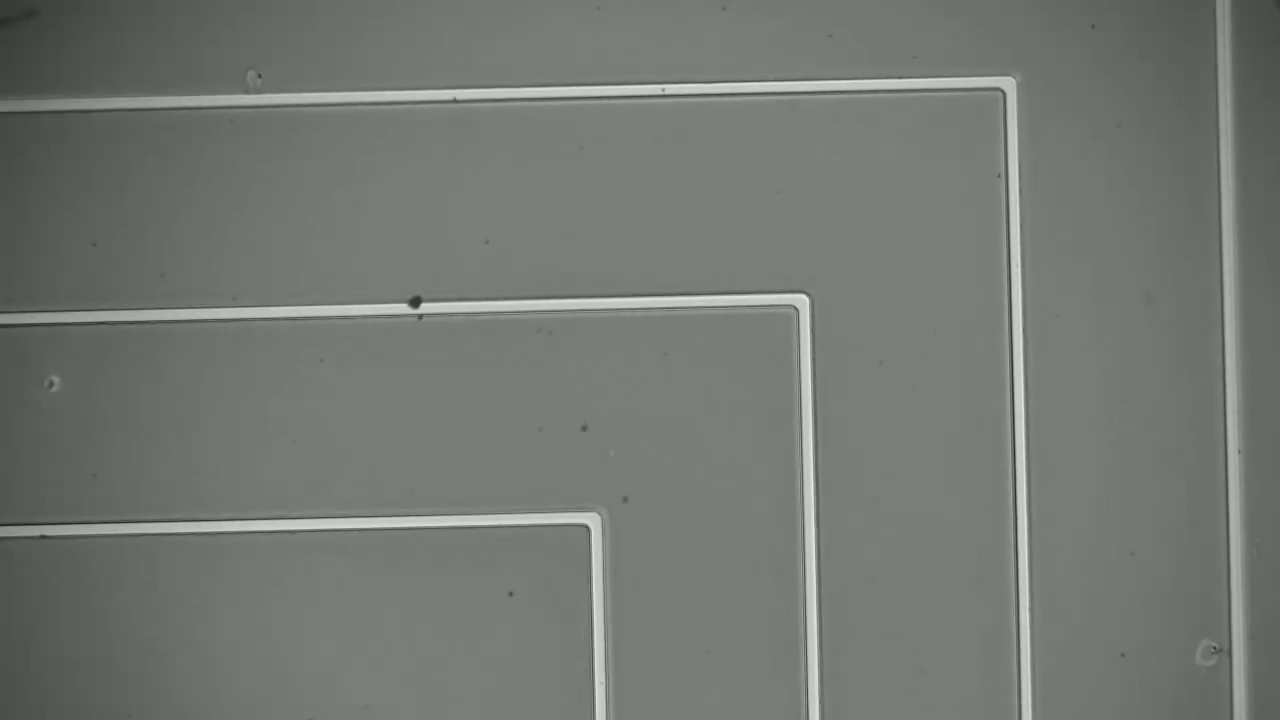stains_enbedded: (399, 288, 434, 324)
